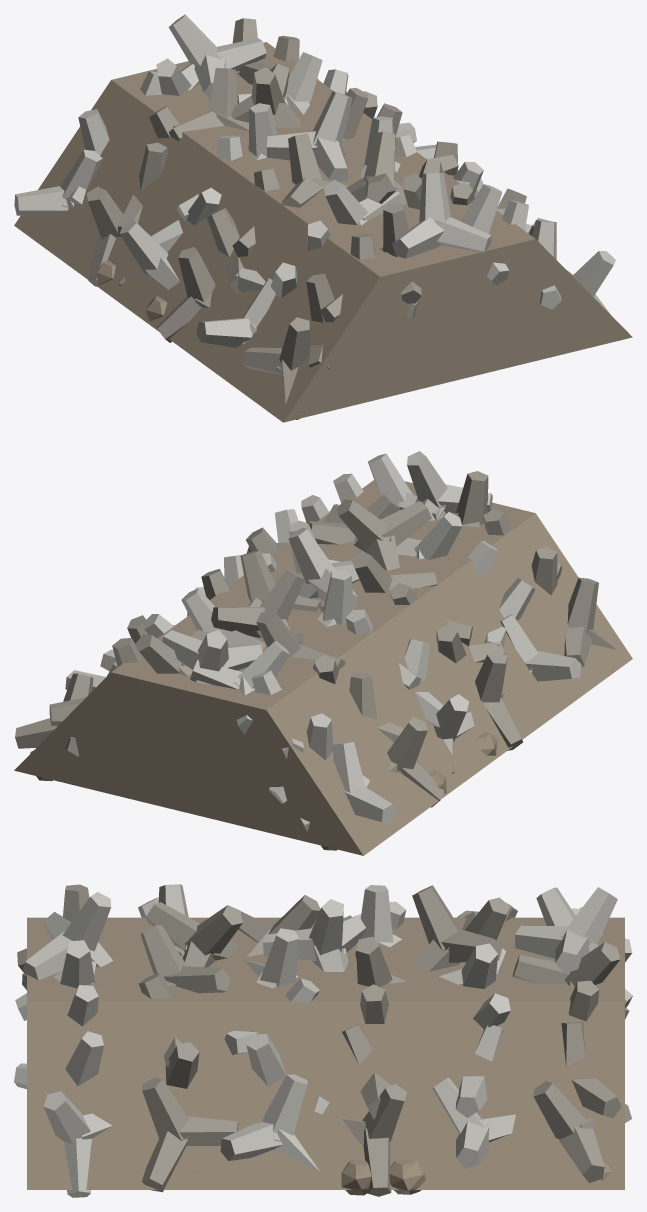
Rendered from HARBOR_05.obj.
3 views of the same model, one above another, from view 1: azimuth 30°, elevation 25°; view 2: azimuth 150°, elevation 25°; view 3: azimuth 270°, elevation 25° (orthographic). The views are drawn at different scales.
Parts seen in each view (by area): view 1: HARBOR_05__core, HARBOR_05__armour_row5, HARBOR_05__armour_row1, HARBOR_05__armour_row4, HARBOR_05__armour_row2, HARBOR_05__armour_row6, HARBOR_05__armour_row3, HARBOR_05__armour_row7, HARBOR_05__armour_row8, HARBOR_05__armour_row9, HARBOR_05__rocks; view 2: HARBOR_05__core, HARBOR_05__armour_row5, HARBOR_05__armour_row1, HARBOR_05__armour_row4, HARBOR_05__armour_row6, HARBOR_05__armour_row2, HARBOR_05__armour_row3, HARBOR_05__armour_row9, HARBOR_05__armour_row7, HARBOR_05__armour_row8, HARBOR_05__rocks; view 3: HARBOR_05__core, HARBOR_05__armour_row9, HARBOR_05__armour_row5, HARBOR_05__armour_row6, HARBOR_05__armour_row8, HARBOR_05__armour_row4, HARBOR_05__armour_row7, HARBOR_05__rocks, HARBOR_05__armour_row3.
Boxes of the visible parts, x1=… form: HARBOR_05__core: x1=14, y1=42, x2=632, y2=422; HARBOR_05__armour_row5: x1=168, y1=14, x2=491, y2=258; HARBOR_05__armour_row1: x1=14, y1=149, x2=309, y2=419; HARBOR_05__armour_row4: x1=156, y1=58, x2=421, y2=303; HARBOR_05__armour_row2: x1=67, y1=109, x2=334, y2=368; HARBOR_05__armour_row6: x1=232, y1=18, x2=509, y2=285; HARBOR_05__armour_row3: x1=140, y1=71, x2=418, y2=322; HARBOR_05__armour_row7: x1=273, y1=35, x2=528, y2=230; HARBOR_05__armour_row8: x1=317, y1=78, x2=561, y2=309; HARBOR_05__armour_row9: x1=363, y1=91, x2=615, y2=315; HARBOR_05__rocks: x1=96, y1=260, x2=167, y2=321; HARBOR_05__core: x1=14, y1=480, x2=632, y2=855; HARBOR_05__armour_row5: x1=162, y1=451, x2=492, y2=684; HARBOR_05__armour_row1: x1=300, y1=577, x2=616, y2=831; HARBOR_05__armour_row4: x1=190, y1=471, x2=488, y2=734; HARBOR_05__armour_row6: x1=135, y1=453, x2=445, y2=676; HARBOR_05__armour_row2: x1=269, y1=546, x2=557, y2=803; HARBOR_05__armour_row3: x1=252, y1=509, x2=561, y2=758; HARBOR_05__armour_row9: x1=15, y1=509, x2=298, y2=756; HARBOR_05__armour_row7: x1=112, y1=473, x2=363, y2=666; HARBOR_05__armour_row8: x1=49, y1=495, x2=329, y2=725; HARBOR_05__rocks: x1=30, y1=731, x2=496, y2=850; HARBOR_05__core: x1=27, y1=917, x2=624, y2=1189; HARBOR_05__armour_row9: x1=43, y1=1074, x2=631, y2=1197; HARBOR_05__armour_row5: x1=23, y1=885, x2=617, y2=979; HARBOR_05__armour_row6: x1=15, y1=925, x2=620, y2=1020; HARBOR_05__armour_row8: x1=14, y1=1022, x2=621, y2=1118; HARBOR_05__armour_row4: x1=17, y1=884, x2=632, y2=973; HARBOR_05__armour_row7: x1=67, y1=973, x2=599, y2=1068; HARBOR_05__rocks: x1=195, y1=1159, x2=611, y2=1195; HARBOR_05__armour_row3: x1=22, y1=897, x2=580, y2=989.
Size of the model in its own units: 9.74 by 4.95 by 12.42.
